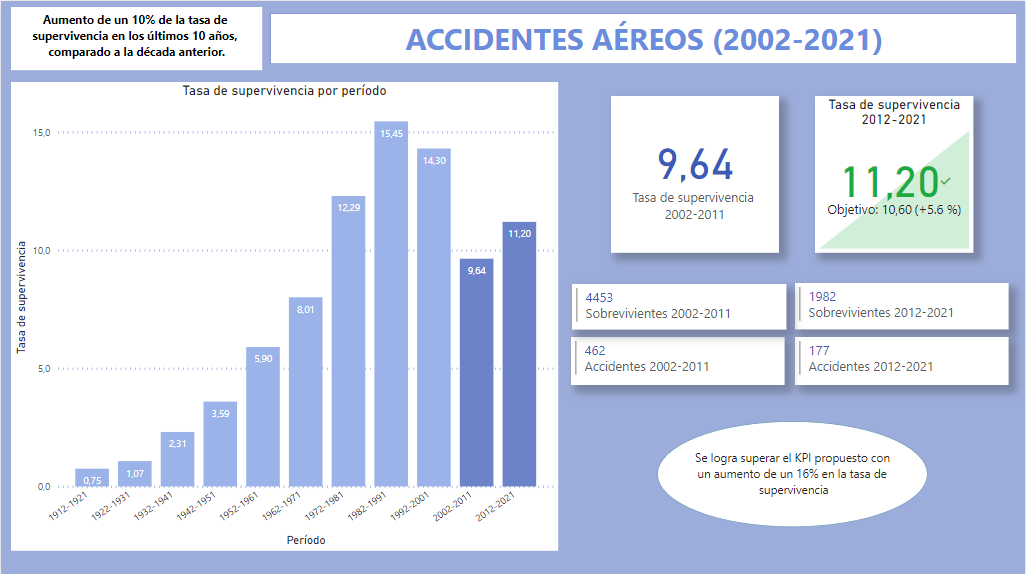

The dashboard page shown, as its layout file describes it:
{"tool":"powerbi","page":{"name":"KPI 3","canvas":[1280,720],"ordinal":4},"visuals":[{"type":"textbox","box":[335.7,15.4,934.1,64.1],"z":0},{"type":"multiRowCard","fields":{"Values":["Accidentes_tratado.Sobrevivientes"]},"box":[992.3,352,266.6,58.1],"z":1000},{"type":"multiRowCard","fields":{"Values":["Accidentes_tratado.Accidentes"]},"box":[992.3,420.4,266.6,60.4],"z":2000},{"type":"multiRowCard","fields":{"Values":["Accidentes_tratado.Accidentes"]},"box":[712,420.4,266.6,60.4],"z":3000},{"type":"multiRowCard","fields":{"Values":["Accidentes_tratado.Sobrevivientes"]},"box":[713.2,353.2,267.7,57],"z":4000},{"type":"card","title":"2002-2011","fields":{"Values":["Accidentes_tratado.Tasa_supervivencia"]},"box":[762.2,118.5,209.6,195.9],"z":5000},{"type":"shape","box":[820,525,338.6,132.9],"z":5000,"group":"g1"},{"type":"textbox","box":[862.5,555,256.7,71.8],"z":5500,"group":"g2"},{"type":"group","id":"g1","title":"Grupo 2","box":[820,525,338.6,132.9],"z":5502,"group":"g3"},{"type":"group","id":"g2","title":"Grupo 2","box":[862.5,555,256.7,71.8],"z":5502,"group":"g4"},{"type":"textbox","box":[12.8,7.7,313.9,79.4],"z":6000},{"type":"kpi","title":"Tasa de supervivencia  2012-2021","fields":{"TrendLine":["Accidentes_tratado.Período"],"Goal":["Accidentes_tratado.KPI3"],"Indicator":["Accidentes_tratado.Tasa_supervivencia"]},"box":[1017.3,118.5,198.2,195.9],"z":7000},{"type":"columnChart","title":"Tasa de supervivencia por período","fields":{"Category":["Accidentes_tratado.Período"],"Y":["Accidentes_tratado.Reduccion_tasa_supervivencia"]},"box":[12.5,101.4,683.5,585.6],"z":8000},{"type":"group","id":"g3","title":"Grupo 1","box":[820,525,338.3,133.3],"z":9000,"group":"g5"},{"type":"group","id":"g4","title":"Grupo 1","box":[862.5,555,256.2,72.5],"z":10000,"group":"g5"},{"type":"group","id":"g5","title":"Grupo 3","box":[820,525,338.3,133.3],"z":10001}]}

Visuals, with their boxes in screenshot pixels (x1, y1, x2, y2), scaled from the page's 1280x720 canvas onto the 1026x574 screenshot:
textbox: (x1=269, y1=12, x2=1018, y2=63)
multiRowCard - Accidentes_tratado.Sobrevivientes: (x1=795, y1=281, x2=1009, y2=327)
multiRowCard - Accidentes_tratado.Accidentes: (x1=795, y1=335, x2=1009, y2=383)
multiRowCard - Accidentes_tratado.Accidentes: (x1=571, y1=335, x2=784, y2=383)
multiRowCard - Accidentes_tratado.Sobrevivientes: (x1=572, y1=282, x2=786, y2=327)
"2002-2011" card: (x1=611, y1=94, x2=779, y2=251)
shape: (x1=657, y1=419, x2=929, y2=524)
textbox: (x1=691, y1=442, x2=897, y2=500)
"Grupo 2" group: (x1=657, y1=419, x2=929, y2=524)
"Grupo 2" group: (x1=691, y1=442, x2=897, y2=500)
textbox: (x1=10, y1=6, x2=262, y2=69)
"Tasa de supervivencia  2012-2021" kpi: (x1=815, y1=94, x2=974, y2=251)
"Tasa de supervivencia por período" columnChart: (x1=10, y1=81, x2=558, y2=548)
"Grupo 1" group: (x1=657, y1=419, x2=928, y2=525)
"Grupo 1" group: (x1=691, y1=442, x2=897, y2=500)
"Grupo 3" group: (x1=657, y1=419, x2=928, y2=525)
